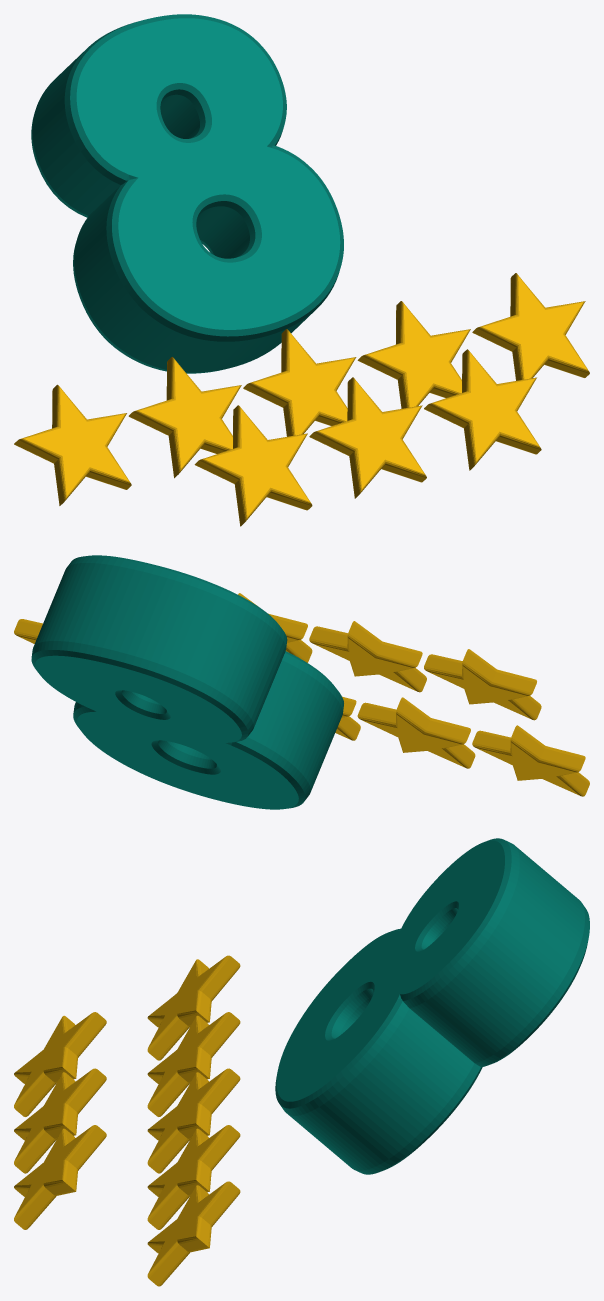
File: num_8.glb
3 views of the same model, one above another, from view 1: azimuth 30°, elevation 25°; view 2: azimuth 150°, elevation 25°; view 3: azimuth 270°, elevation 25° (orthographic).
Size of the model in its own units: 2.08 by 1.03 by 1.81.
